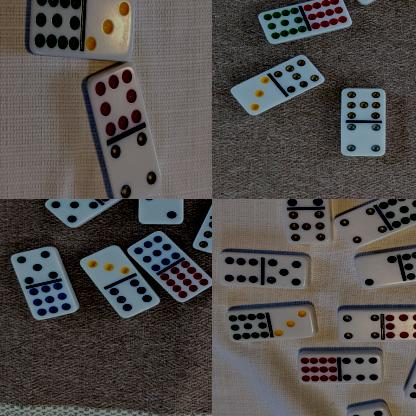pip-11: (27, 0, 83, 55), (258, 7, 308, 44), (226, 311, 267, 343), (379, 199, 416, 228), (401, 245, 416, 283)
pip-12: (160, 260, 212, 303), (302, 0, 351, 31), (297, 355, 339, 385)
pip-2: (353, 251, 400, 291), (137, 199, 182, 223)
pip-3: (84, 0, 134, 61), (229, 77, 281, 117), (79, 246, 129, 284), (268, 307, 314, 338)
pip-4: (108, 132, 162, 199), (333, 209, 386, 249), (339, 122, 386, 158), (337, 310, 381, 343)
pip-5: (11, 246, 57, 286), (44, 199, 99, 228), (262, 256, 308, 289), (280, 199, 328, 209), (346, 407, 390, 416)
pip-6: (108, 278, 159, 318), (216, 254, 262, 286), (340, 354, 380, 384), (402, 374, 416, 406)
pip-7: (273, 56, 324, 94), (339, 88, 386, 123), (286, 210, 330, 245), (191, 222, 212, 260)
pip-8: (87, 66, 142, 138), (382, 310, 416, 342)
pip-9: (127, 232, 180, 272), (27, 283, 74, 321)
